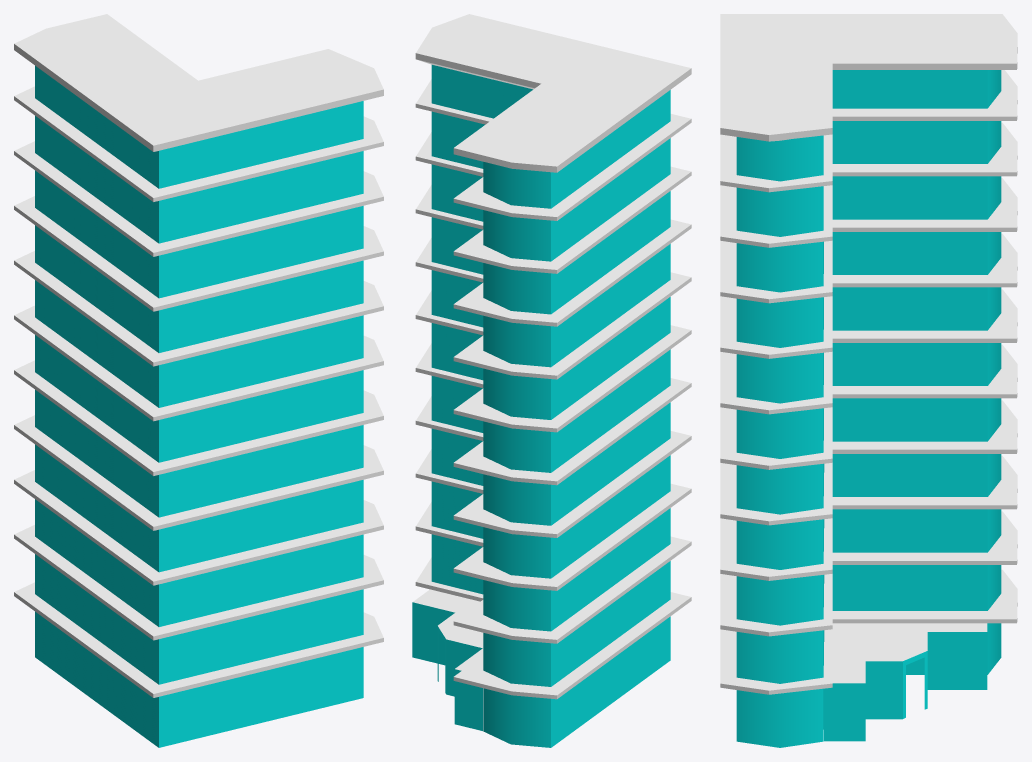
The model's file is Building_2_Blue.glb.
3 views of the same model, side by side, from view 1: azimuth 30°, elevation 25°; view 2: azimuth 150°, elevation 25°; view 3: azimuth 270°, elevation 25° (orthographic). The views are drawn at different scales.
Visible parts, largest first — view 1: pPlane3; view 2: pPlane3; view 3: pPlane3.
Boxes of the visible parts, <box> form: pPlane3: <box>14,14,383,747</box>; pPlane3: <box>412,14,691,747</box>; pPlane3: <box>720,14,1017,747</box>.
Size of the model in its own units: 50.39 by 120 by 52.34.
